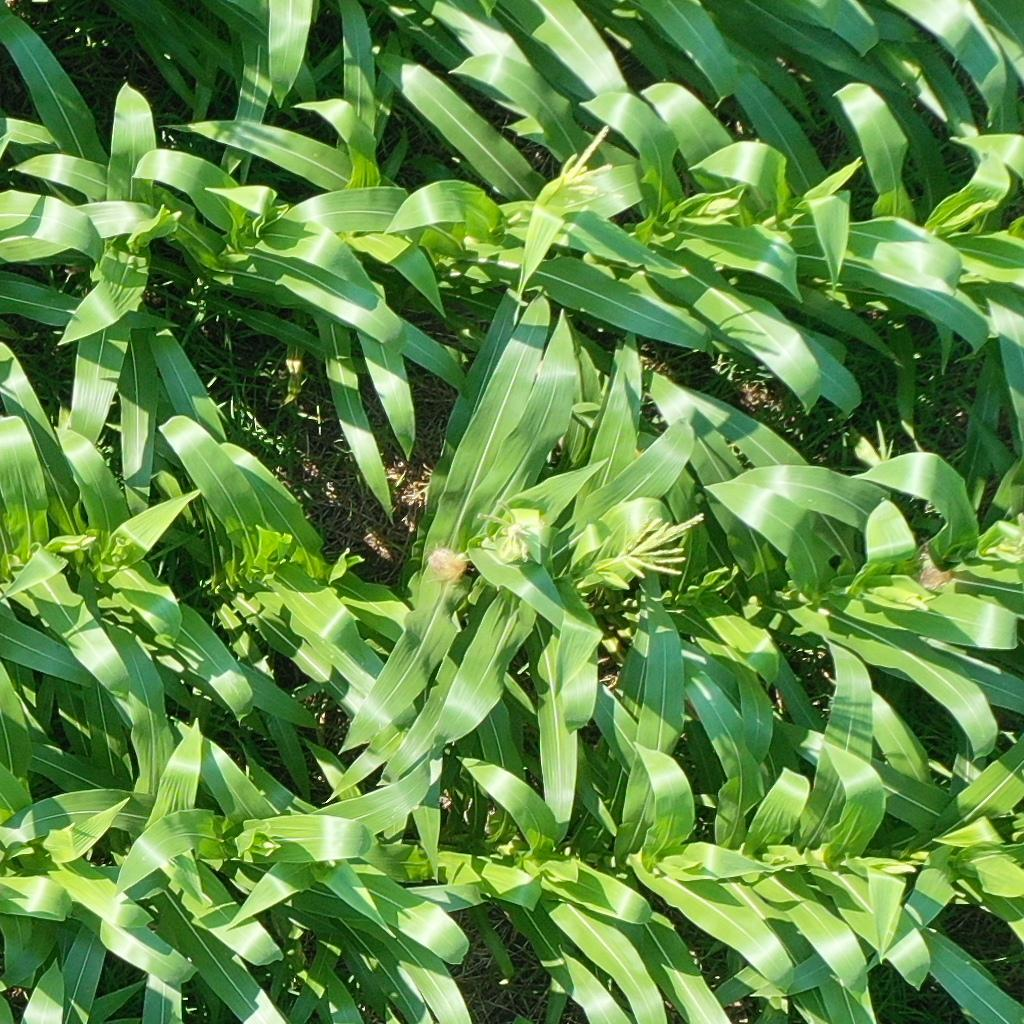Tassel: (614, 495, 696, 583), (555, 119, 620, 199), (477, 496, 547, 565), (989, 511, 1024, 571), (704, 195, 742, 216)
